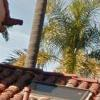Palm tree: (50, 6, 96, 80)
